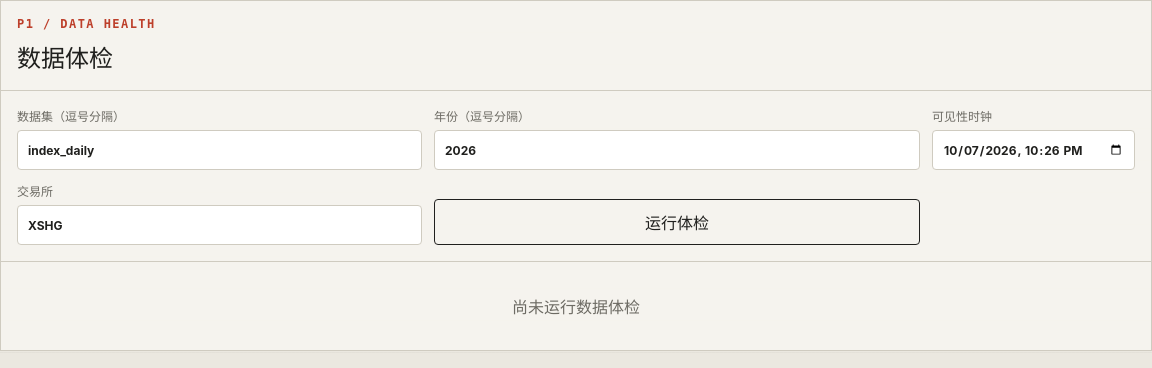
DataHealthPage › refuses a year field that holds no whole number
Type "去年" into the field labelled "年份（逗号分隔）" at (677, 150), box [434,130,920,170]
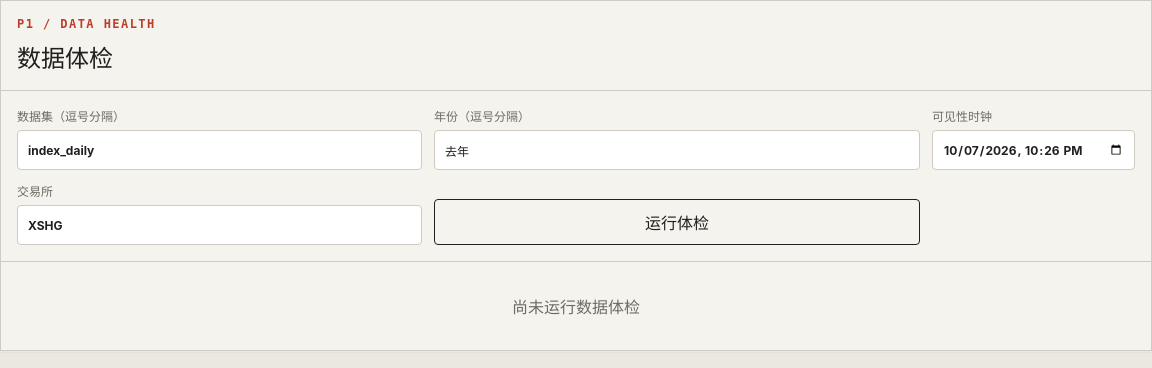
Click the button "运行体检" at (677, 222), box [434,199,920,245]
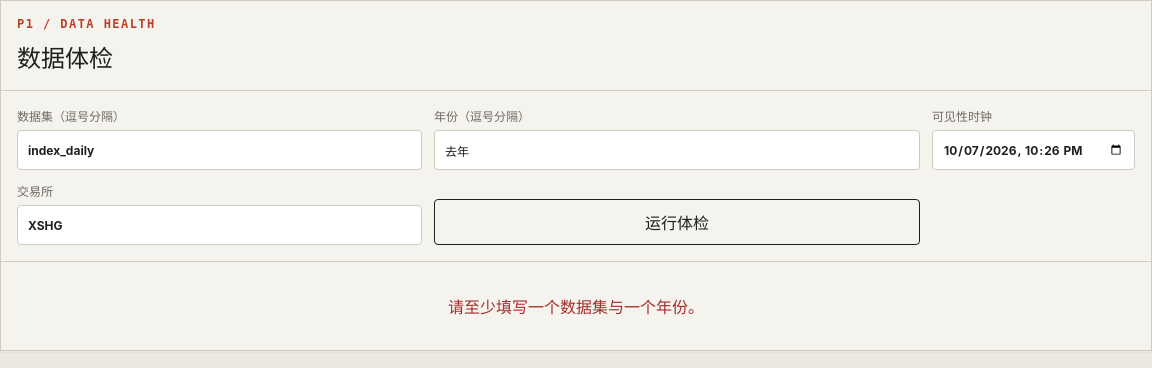
Check: the message "请至少填写一个数据集与一个年份。" is shown, box [448,297,704,317]
